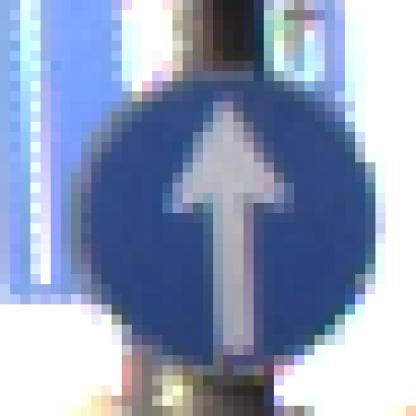AheadOnly: (62, 62, 366, 366)
